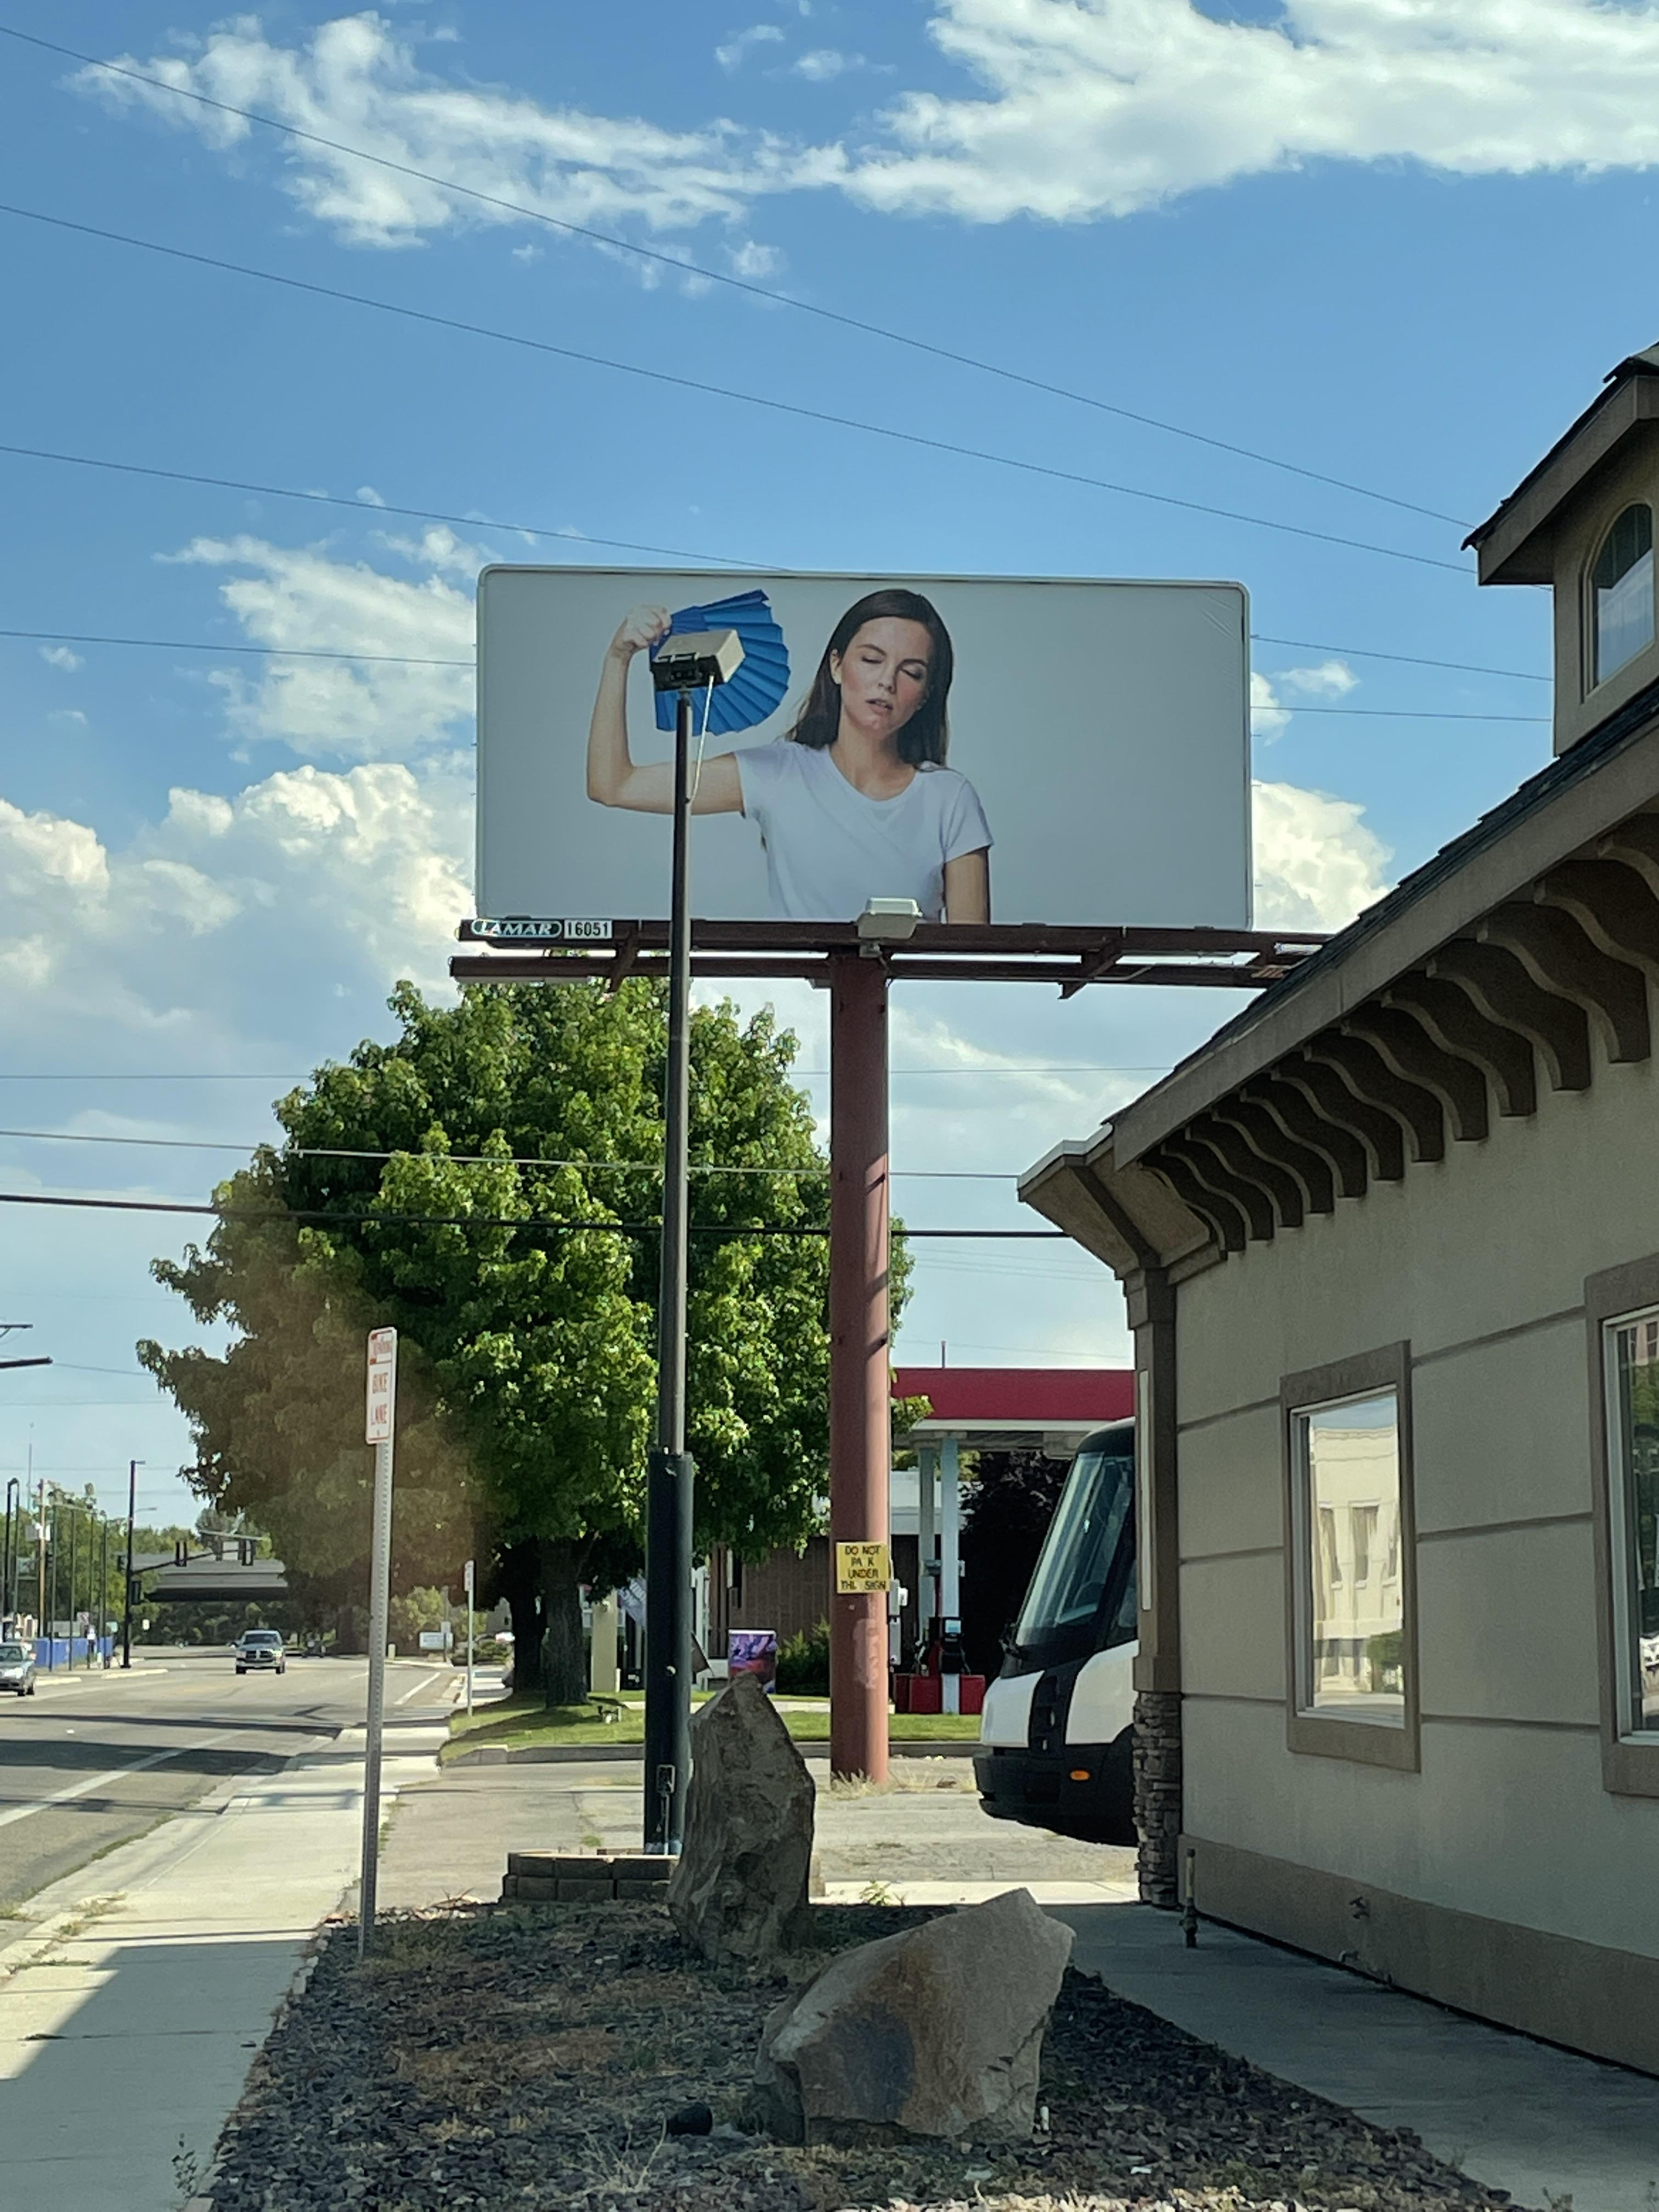poster: (460, 554, 1274, 970)
